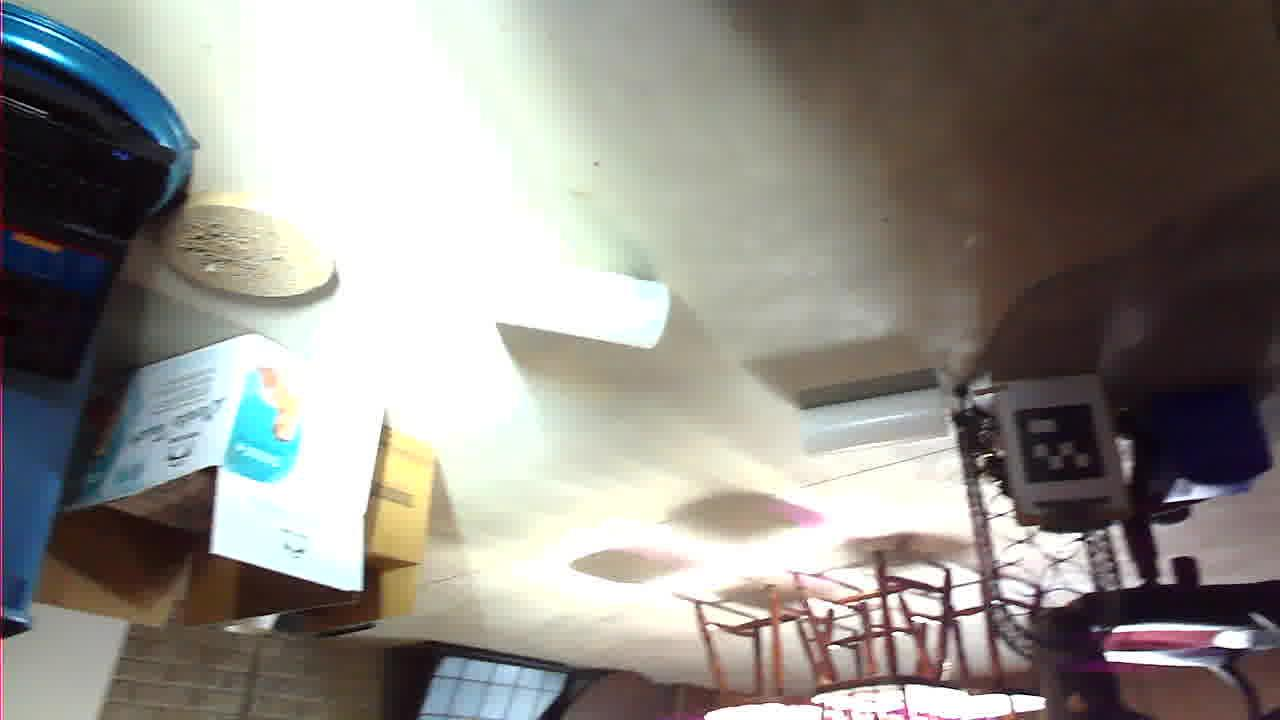coral: (335, 263, 478, 330)
